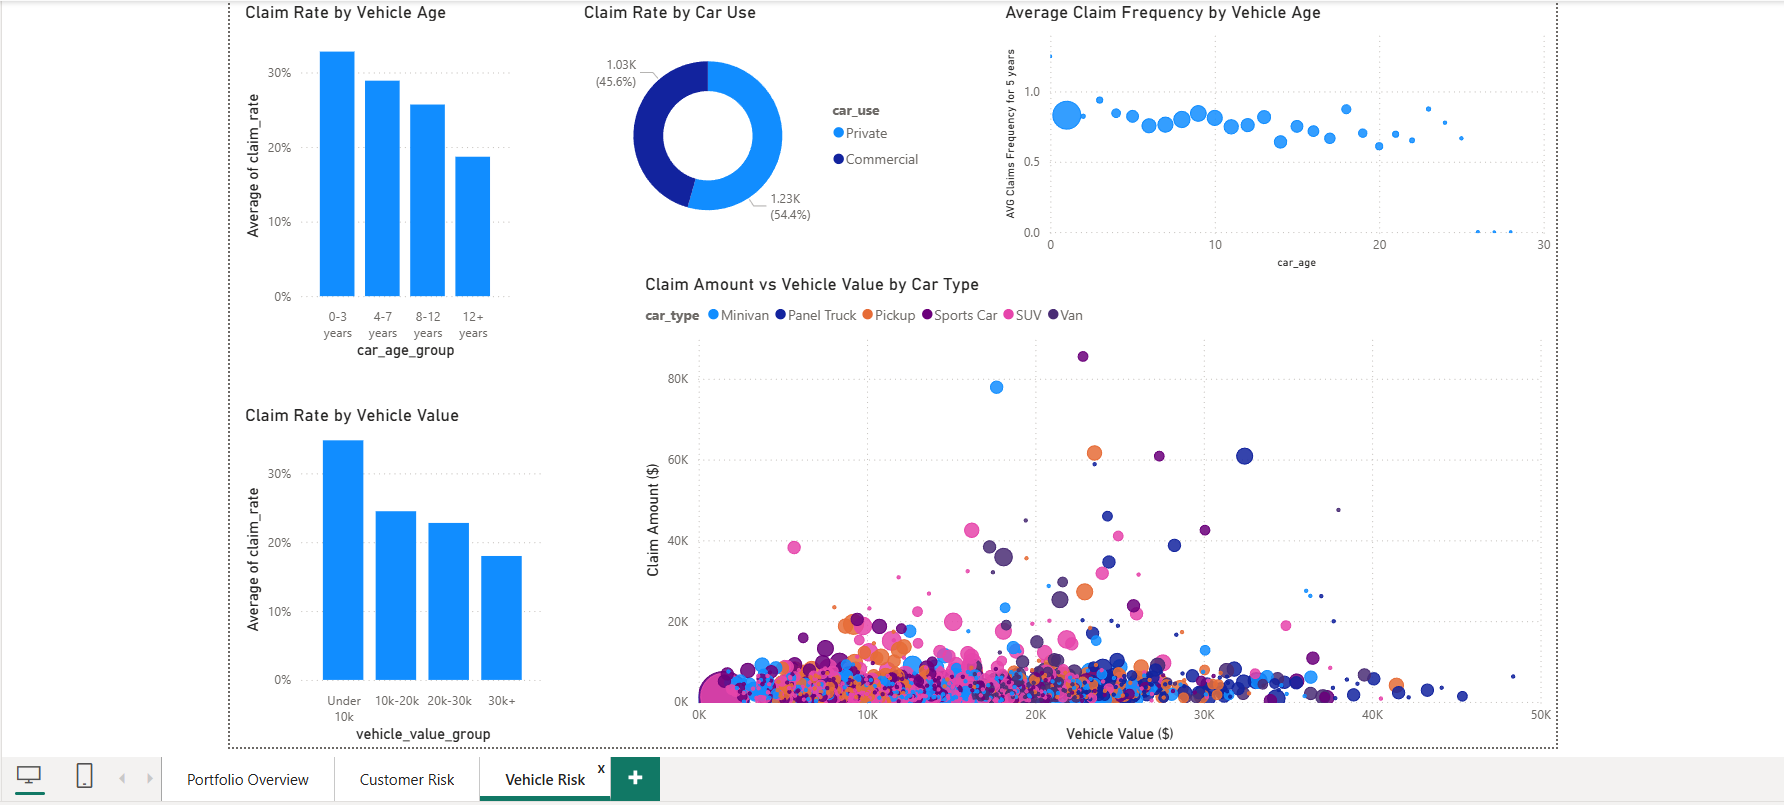

The page's visual inventory and layout, read from the dashboard file:
{"tool":"powerbi","page":{"name":"Vehicle Risk","canvas":[1280,720],"ordinal":2},"visuals":[{"type":"clusteredColumnChart","title":"Claim Rate by Vehicle Age","fields":{"Category":["claim_rate_by_car_age.car_age_group"],"Y":["Avg(claim_rate_by_car_age.claim_rate)"]},"box":[9.7,0,265.4,349.9],"z":0},{"type":"donutChart","title":"Claim Rate by Car Use","fields":{"Category":["claim_rate_by_car_use.car_use"],"Y":["Avg(claim_rate_by_car_use.total_claims)"]},"box":[336.6,0,342.6,241.3],"z":1000},{"type":"clusteredColumnChart","title":"Claim Rate by Vehicle Value","fields":{"Category":["claim_rate_by_vehicle_value_group.vehicle_value_group"],"Y":["Avg(claim_rate_by_vehicle_value_group.claim_rate)"]},"box":[9.7,389.7,299.2,330.6],"z":2000},{"type":"scatterChart","title":"Claim Amount vs Vehicle Value by Car Type","fields":{"X":["insurance_policies.vehicle_value"],"Y":["Avg(insurance_policies.claims_amount)"],"Size":["Sum(insurance_policies.claims_frequency_5_years)"],"Series":["insurance_policies.car_type"]},"box":[395.7,314.9,884.3,405.4],"z":3000},{"type":"scatterChart","title":"Average Claim Frequency by Vehicle Age","fields":{"X":["insurance_policies.car_age"],"Y":["Avg(insurance_policies.claims_frequency_5_years)"],"Size":["Sum(insurance_policies.vehicle_value)"]},"box":[743.2,0,518.8,314.9],"z":4000}]}

Visuals, with their boxes on the page's 1280x720 design canvas (x1, y1, x2, y2). These are canvas units, not pixel positions in the 1784x805 screenshot, which may show the page scaled, cropped or inside an application window:
"Claim Rate by Vehicle Age" clusteredColumnChart: <box>10,0,275,350</box>
"Claim Rate by Car Use" donutChart: <box>337,0,679,241</box>
"Claim Rate by Vehicle Value" clusteredColumnChart: <box>10,390,309,720</box>
"Claim Amount vs Vehicle Value by Car Type" scatterChart: <box>396,315,1280,720</box>
"Average Claim Frequency by Vehicle Age" scatterChart: <box>743,0,1262,315</box>
